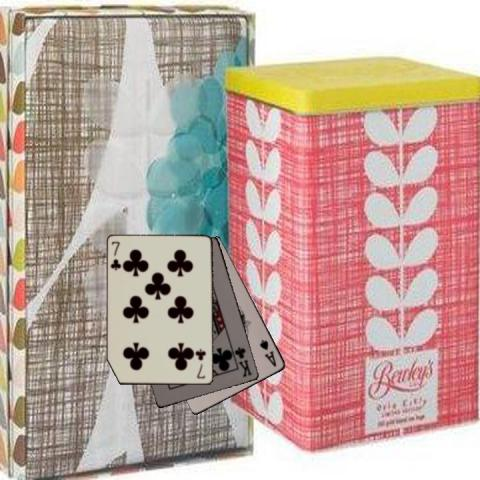7c: (108, 239, 123, 272), (195, 346, 207, 380)
As: (257, 336, 278, 368)
Kc: (232, 344, 253, 379)
